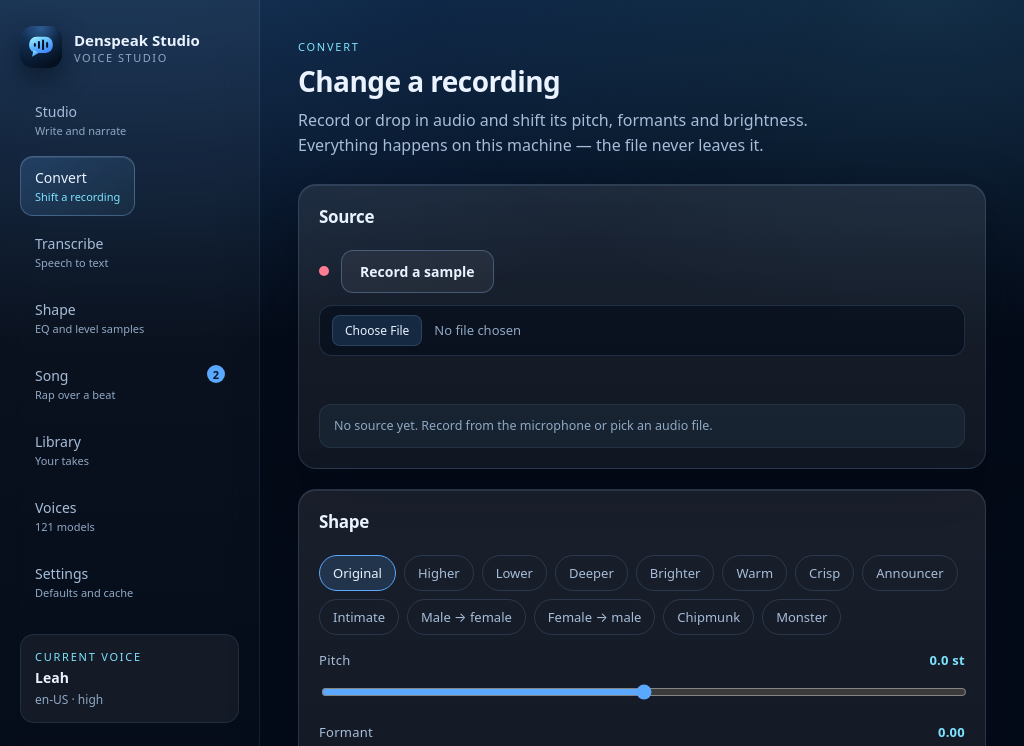
it: hand-off navigation › spends a successful removal: a late take leaves focus where the reader put it
Click the button named "2 takes waiting for Song". click: (216, 374)
box: [207,365,225,383]
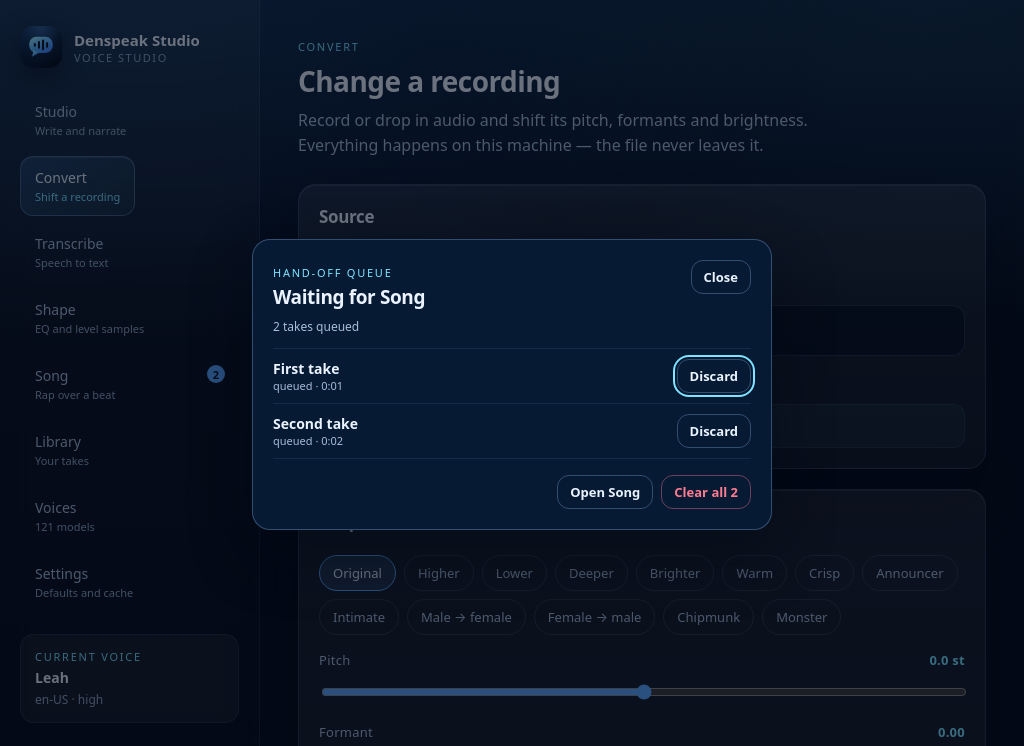
Click the button with aria-label "Discard First take". click: (714, 376)
box: [676,358,751,392]
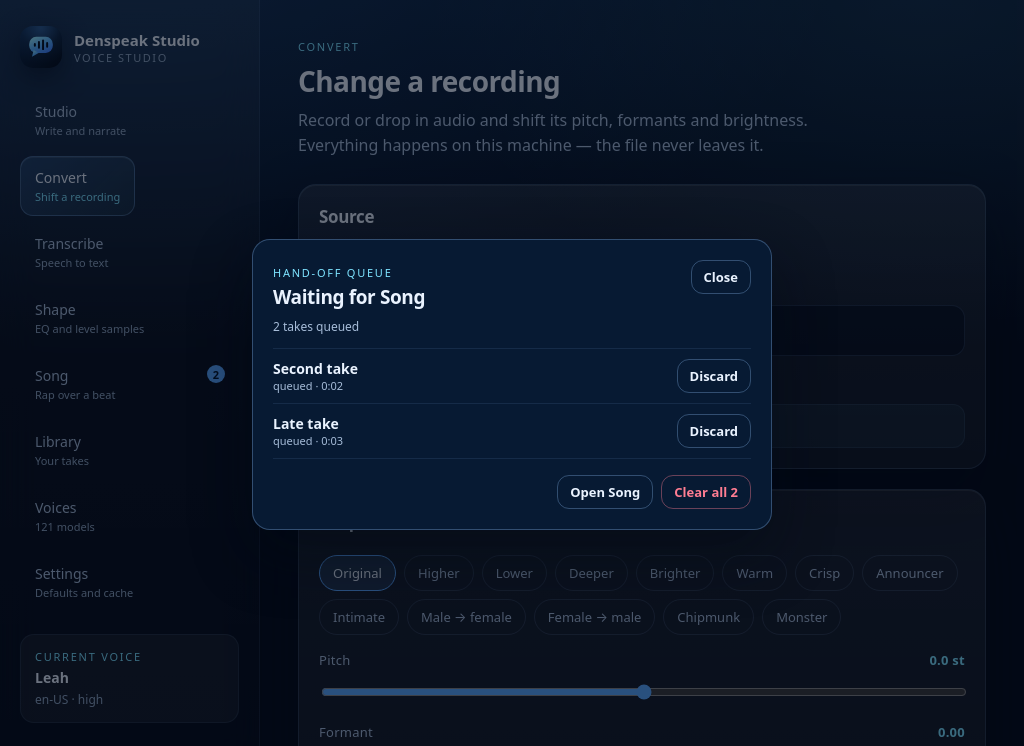
Expected: the dialog "Waiting for Song" shows "Late take", [273,414,339,432]
